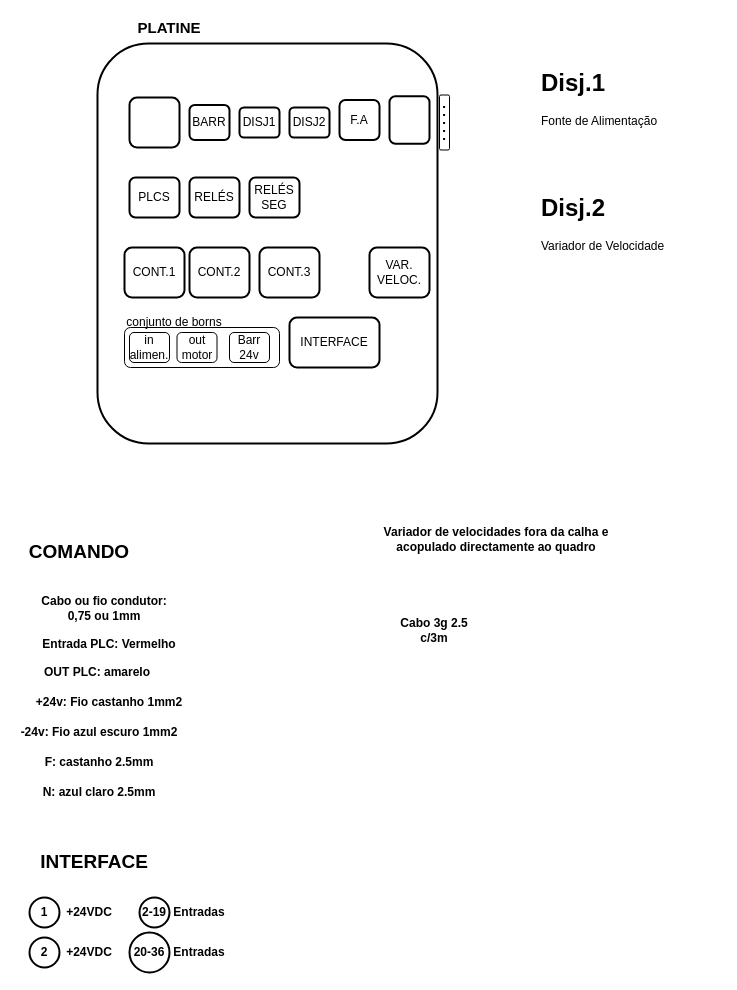
Image size: 737x990. Some labels were removed from this diagram. The box of each missing label's shape, as (x1, y1, x2, y2) in pixels:
FUZ: (388, 95, 430, 144)
INT DIF: (128, 96, 180, 148)
